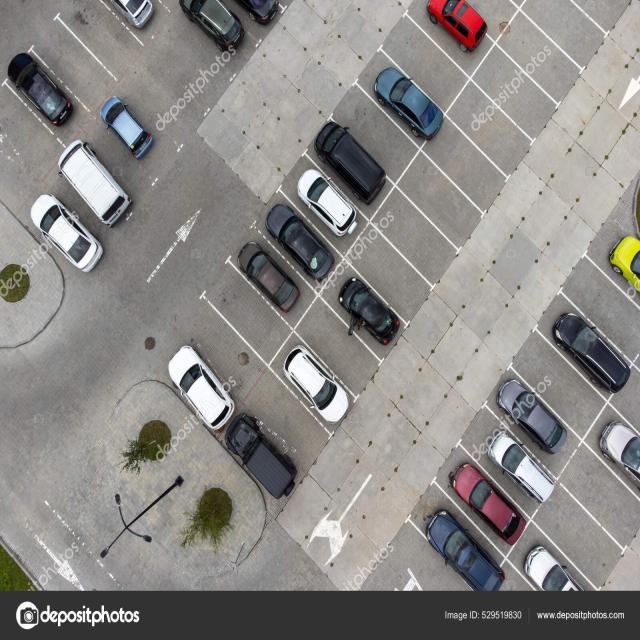discapacitados: (44, 3, 136, 100)
libre: (448, 34, 640, 128), (355, 189, 508, 246), (407, 138, 557, 184), (572, 471, 631, 573), (219, 271, 284, 361), (140, 33, 200, 113), (532, 348, 589, 423), (581, 280, 640, 330), (8, 128, 56, 181), (350, 99, 398, 152)
ocupado: (152, 333, 311, 520), (42, 76, 142, 276), (430, 460, 518, 592), (289, 116, 379, 240), (498, 376, 566, 509), (284, 341, 360, 438), (549, 310, 640, 389), (333, 269, 403, 366), (232, 235, 335, 300), (376, 54, 452, 138), (162, 0, 294, 41), (8, 46, 76, 121), (426, 0, 494, 59), (521, 552, 587, 608), (602, 418, 640, 493), (617, 239, 640, 292)
